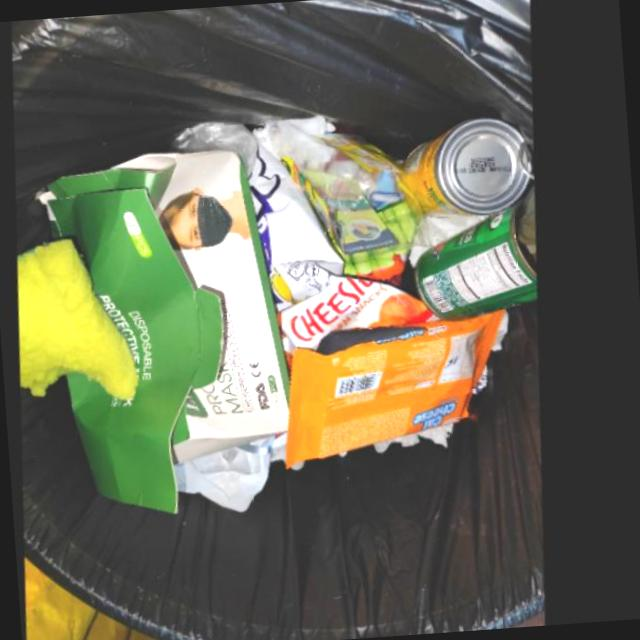bao_bi_thuc_pham: (254, 146, 443, 356), (289, 312, 509, 470)
carton: (42, 151, 293, 517)
goi_nhua_nho: (298, 164, 405, 250)
nhom: (418, 189, 542, 323), (411, 120, 533, 219)
